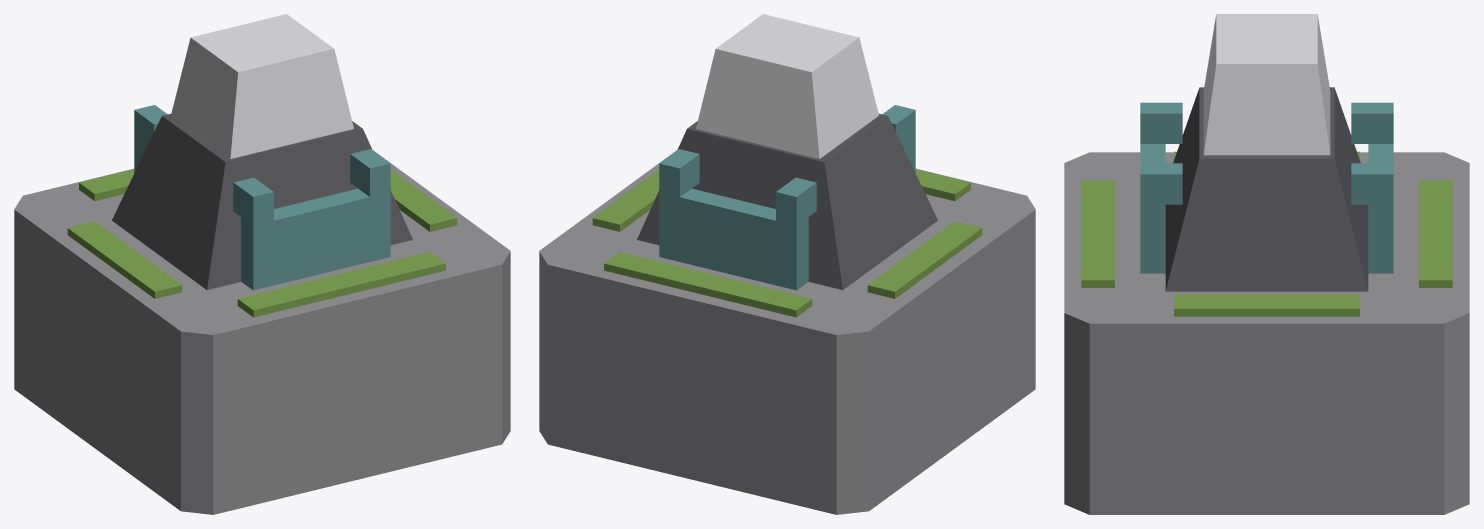
File: vge_compact_multi_analyzer.obj
The picture shows the model from 3 angles, left to right: view 1: azimuth 30°, elevation 25°; view 2: azimuth 150°, elevation 25°; view 3: azimuth 270°, elevation 25°; orthographic projection. The views are drawn at different scales.
Parts seen in each view (by area): view 1: vge_compact_multi_analyzer_0, vge_compact_multi_analyzer_5, vge_compact_multi_analyzer_6, vge_compact_multi_analyzer_7, vge_compact_multi_analyzer_1, vge_compact_multi_analyzer_2, vge_compact_multi_analyzer_4, vge_compact_multi_analyzer_8, vge_compact_multi_analyzer_9, vge_compact_multi_analyzer_3, vge_compact_multi_analyzer_11; view 2: vge_compact_multi_analyzer_0, vge_compact_multi_analyzer_5, vge_compact_multi_analyzer_6, vge_compact_multi_analyzer_10, vge_compact_multi_analyzer_3, vge_compact_multi_analyzer_2, vge_compact_multi_analyzer_4, vge_compact_multi_analyzer_11, vge_compact_multi_analyzer_12, vge_compact_multi_analyzer_1, vge_compact_multi_analyzer_8; view 3: vge_compact_multi_analyzer_0, vge_compact_multi_analyzer_5, vge_compact_multi_analyzer_6, vge_compact_multi_analyzer_4, vge_compact_multi_analyzer_1, vge_compact_multi_analyzer_3, vge_compact_multi_analyzer_7, vge_compact_multi_analyzer_10, vge_compact_multi_analyzer_8, vge_compact_multi_analyzer_9, vge_compact_multi_analyzer_11, vge_compact_multi_analyzer_12.
Part boxes in pixels (bbox=[...]): vge_compact_multi_analyzer_0: bbox=[14, 150, 510, 514]; vge_compact_multi_analyzer_5: bbox=[112, 113, 412, 289]; vge_compact_multi_analyzer_6: bbox=[171, 14, 353, 158]; vge_compact_multi_analyzer_7: bbox=[241, 188, 390, 290]; vge_compact_multi_analyzer_1: bbox=[237, 252, 445, 317]; vge_compact_multi_analyzer_2: bbox=[67, 221, 182, 298]; vge_compact_multi_analyzer_4: bbox=[390, 169, 457, 231]; vge_compact_multi_analyzer_8: bbox=[233, 177, 273, 225]; vge_compact_multi_analyzer_9: bbox=[350, 149, 390, 197]; vge_compact_multi_analyzer_3: bbox=[79, 169, 134, 201]; vge_compact_multi_analyzer_11: bbox=[134, 105, 167, 147]; vge_compact_multi_analyzer_0: bbox=[539, 150, 1035, 514]; vge_compact_multi_analyzer_5: bbox=[637, 113, 937, 289]; vge_compact_multi_analyzer_6: bbox=[696, 14, 878, 158]; vge_compact_multi_analyzer_10: bbox=[659, 188, 808, 290]; vge_compact_multi_analyzer_3: bbox=[604, 252, 812, 317]; vge_compact_multi_analyzer_2: bbox=[867, 221, 982, 298]; vge_compact_multi_analyzer_4: bbox=[592, 169, 659, 231]; vge_compact_multi_analyzer_11: bbox=[776, 177, 816, 225]; vge_compact_multi_analyzer_12: bbox=[659, 149, 699, 197]; vge_compact_multi_analyzer_1: bbox=[915, 169, 970, 201]; vge_compact_multi_analyzer_8: bbox=[882, 105, 915, 147]; vge_compact_multi_analyzer_0: bbox=[1064, 152, 1469, 514]; vge_compact_multi_analyzer_5: bbox=[1165, 87, 1368, 291]; vge_compact_multi_analyzer_6: bbox=[1203, 14, 1330, 155]; vge_compact_multi_analyzer_4: bbox=[1174, 294, 1359, 316]; vge_compact_multi_analyzer_1: bbox=[1081, 180, 1114, 287]; vge_compact_multi_analyzer_3: bbox=[1419, 180, 1452, 287]; vge_compact_multi_analyzer_7: bbox=[1140, 144, 1165, 273]; vge_compact_multi_analyzer_10: bbox=[1368, 144, 1393, 273]; vge_compact_multi_analyzer_8: bbox=[1140, 102, 1182, 143]; vge_compact_multi_analyzer_9: bbox=[1140, 163, 1182, 204]; vge_compact_multi_analyzer_11: bbox=[1351, 102, 1393, 143]; vge_compact_multi_analyzer_12: bbox=[1351, 163, 1393, 204].
Bounding box in the file's own units: 0.96 × 1.02 × 0.96.
